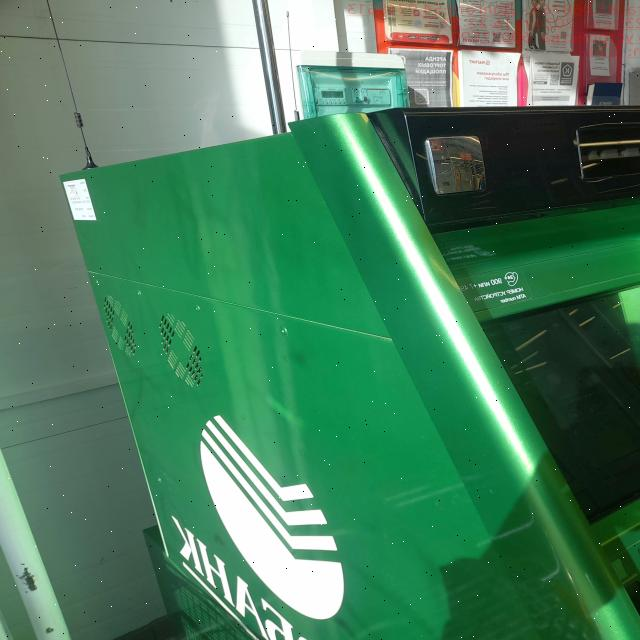bank: (63, 97, 640, 640)
